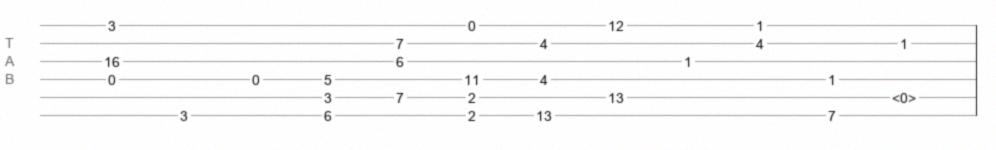0: (108, 72, 116, 82), (252, 72, 260, 82), (468, 18, 476, 28)
1: (684, 54, 692, 64), (756, 18, 764, 28), (828, 72, 836, 82), (900, 36, 908, 46)
11: (464, 72, 480, 82)
12: (608, 18, 624, 28)
13: (536, 108, 552, 118), (608, 90, 624, 100)
16: (104, 54, 120, 64)
2: (468, 90, 476, 100), (468, 108, 476, 118)
3: (108, 18, 116, 28), (180, 108, 188, 118), (324, 90, 332, 100)
4: (540, 36, 548, 46), (540, 72, 548, 82), (756, 36, 764, 46)
5: (324, 72, 332, 82)
6: (324, 108, 332, 118), (396, 54, 404, 64)
7: (396, 90, 404, 100), (396, 36, 404, 46), (828, 108, 836, 118)
harmonic: (892, 90, 916, 100)
